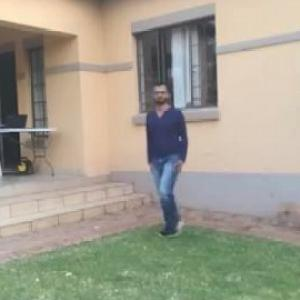follow: (148, 84, 198, 235)
